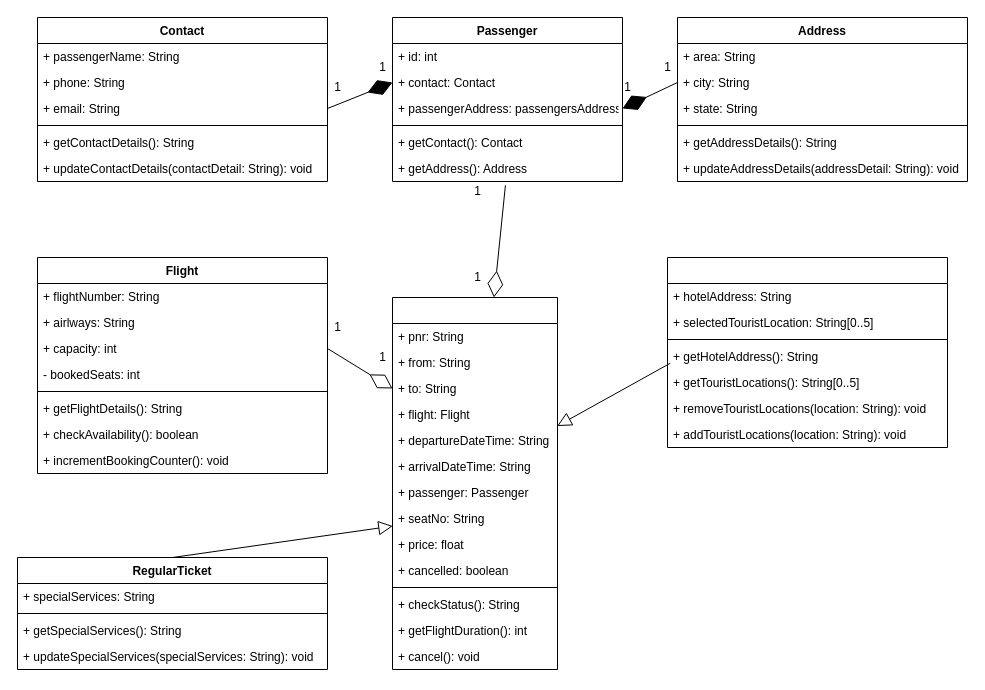
This 985x690 diagram has some shape labels left out. Each missing label, with the box of its shape:
Ticket: (392, 296, 558, 670)
TouristTicket: (666, 256, 948, 448)
